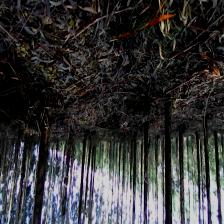trunk: (33, 127, 50, 221), (164, 99, 175, 223), (202, 115, 212, 217), (15, 143, 28, 220), (62, 127, 74, 210), (214, 132, 223, 222), (178, 129, 186, 222), (79, 134, 87, 208), (195, 131, 202, 212), (132, 136, 138, 209), (85, 142, 92, 204), (144, 124, 148, 217)
